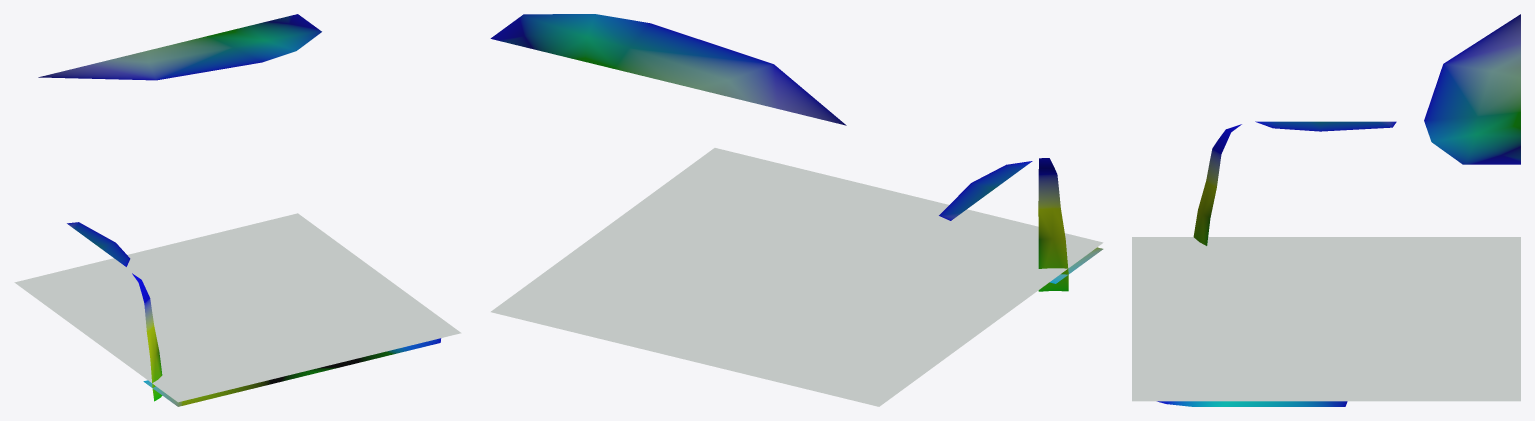
The picture shows the model from 3 angles, left to right: view 1: azimuth 30°, elevation 25°; view 2: azimuth 150°, elevation 25°; view 3: azimuth 270°, elevation 25°; orthographic projection. The views are drawn at different scales.
Visible parts, largest first — view 1: G:\FFXIV-MapTools\exports\w1f5\bg\ffxiv\wil_w1\fld\w1f5\bgpl (×2); view 2: G:\FFXIV-MapTools\exports\w1f5\bg\ffxiv\wil_w1\fld\w1f5\bgpl (×2); view 3: G:\FFXIV-MapTools\exports\w1f5\bg\ffxiv\wil_w1\fld\w1f5\bgpl (×2).
Part boxes in pixels (<box>): G:\FFXIV-MapTools\exports\w1f5\bg\ffxiv\wil_w1\fld\w1f5\bgpl (×2): <box>14,14,461,406</box>; G:\FFXIV-MapTools\exports\w1f5\bg\ffxiv\wil_w1\fld\w1f5\bgpl (×2): <box>490,14,1103,406</box>; G:\FFXIV-MapTools\exports\w1f5\bg\ffxiv\wil_w1\fld\w1f5\bgpl (×2): <box>1132,14,1520,406</box>.
Bounding box in the file's own units: 128 × 93.57 × 128.
